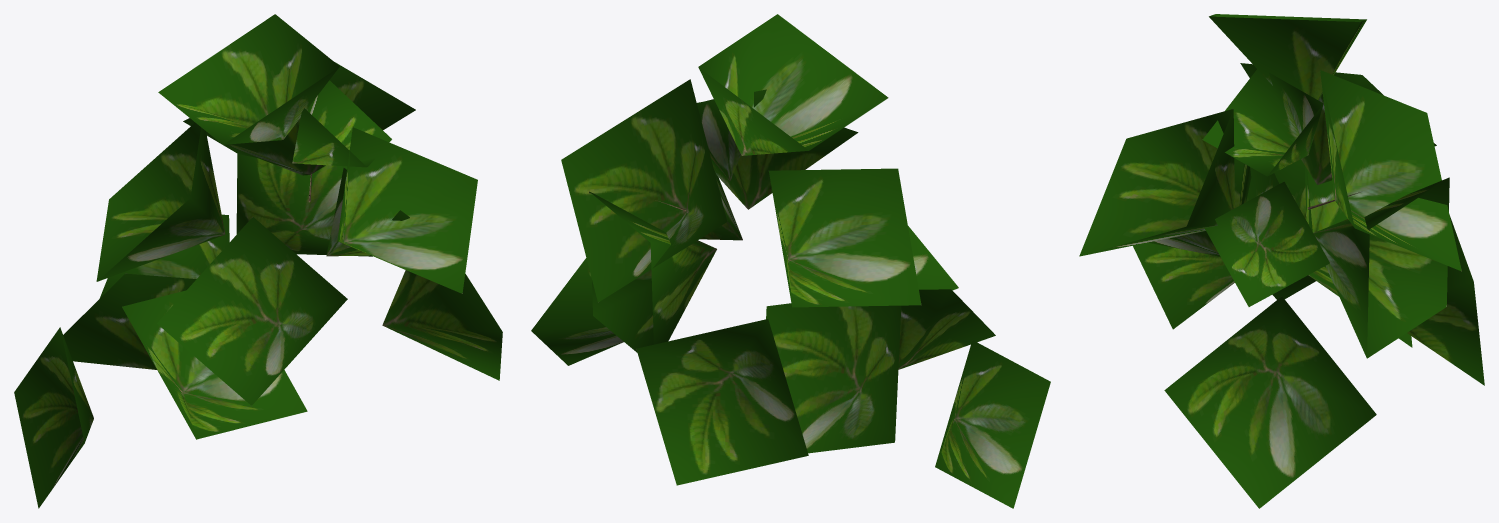
The model's file is leaf_palmbush_a1_l3.fbx.
The picture shows the model from 3 angles, left to right: view 1: azimuth 30°, elevation 25°; view 2: azimuth 150°, elevation 25°; view 3: azimuth 270°, elevation 25°; orthographic projection. The views are drawn at different scales.
Parts seen in each view (by area): view 1: mesh_node; view 2: mesh_node; view 3: mesh_node.
Part boxes in pixels (left/top/right/bottom): mesh_node: left=14, top=14, right=502, bottom=508; mesh_node: left=531, top=14, right=1050, bottom=508; mesh_node: left=1079, top=14, right=1484, bottom=508.
Bounding box in the file's own units: 3.02 × 2.57 × 2.23.
Materials: 2 (2 with a texture image).
